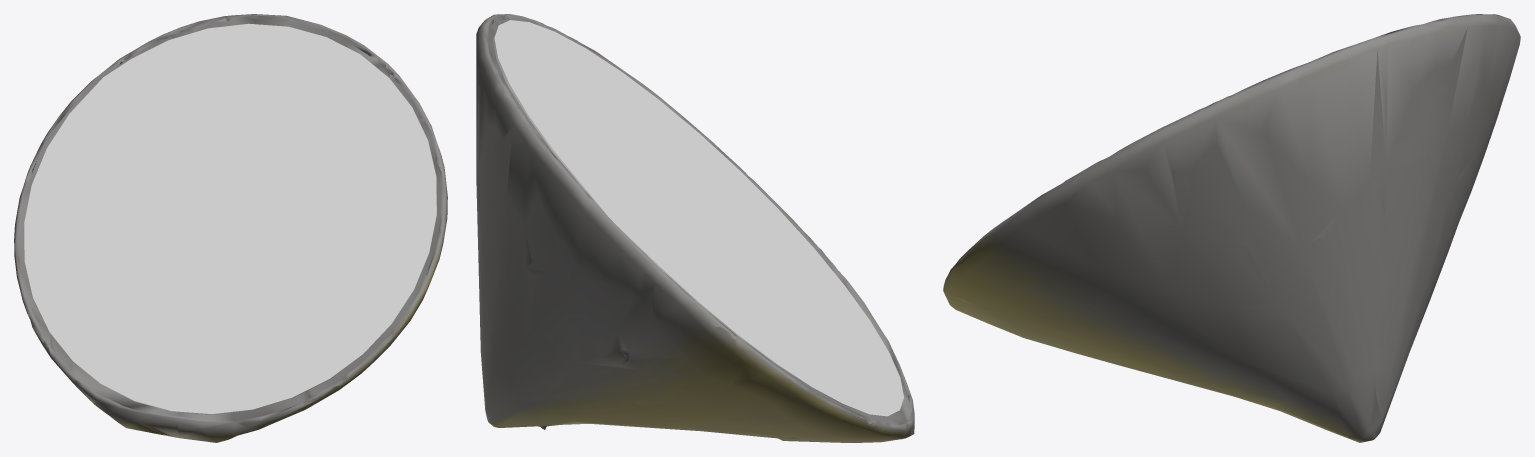
File: 10_1_st_sm_mirror.glb
3 renders of one model, left to right at view 1: azimuth 30°, elevation 25°; view 2: azimuth 150°, elevation 25°; view 3: azimuth 270°, elevation 25°, orthographic. The views are drawn at different scales.
Parts seen in each view (by area): view 1: Material.008; view 2: Material.008; view 3: Material.008.
Part boxes in pixels (bbox=[...]): Material.008: bbox=[14, 14, 447, 442]; Material.008: bbox=[476, 14, 914, 442]; Material.008: bbox=[943, 14, 1520, 442].
Bounding box in the file's own units: 0.231 × 0.1956 × 0.2467.
2 materials, 1 textured.
